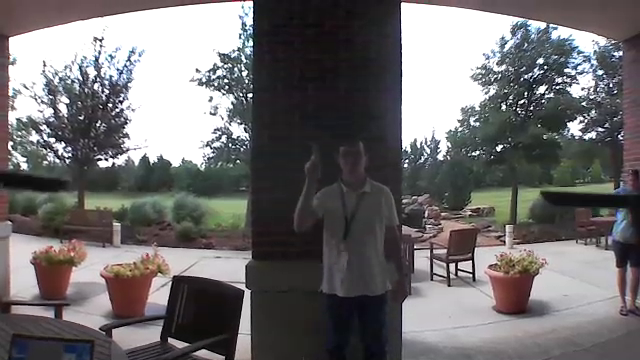up: (300, 138, 329, 181)
